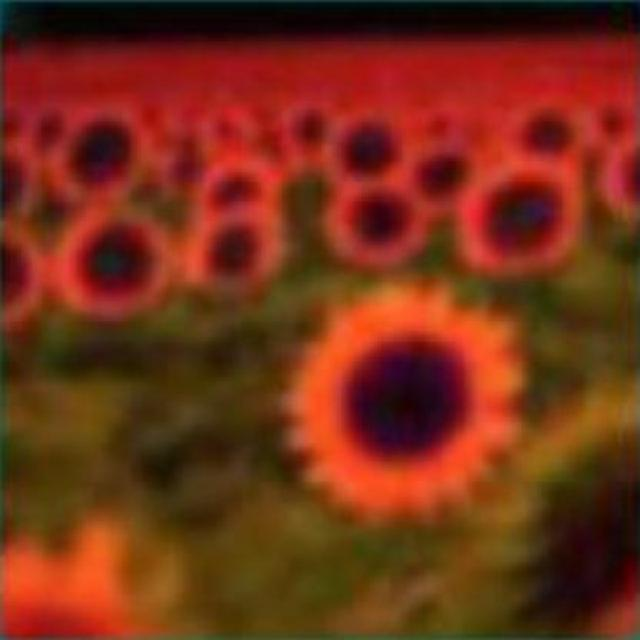sunflower: (282, 288, 528, 520)
